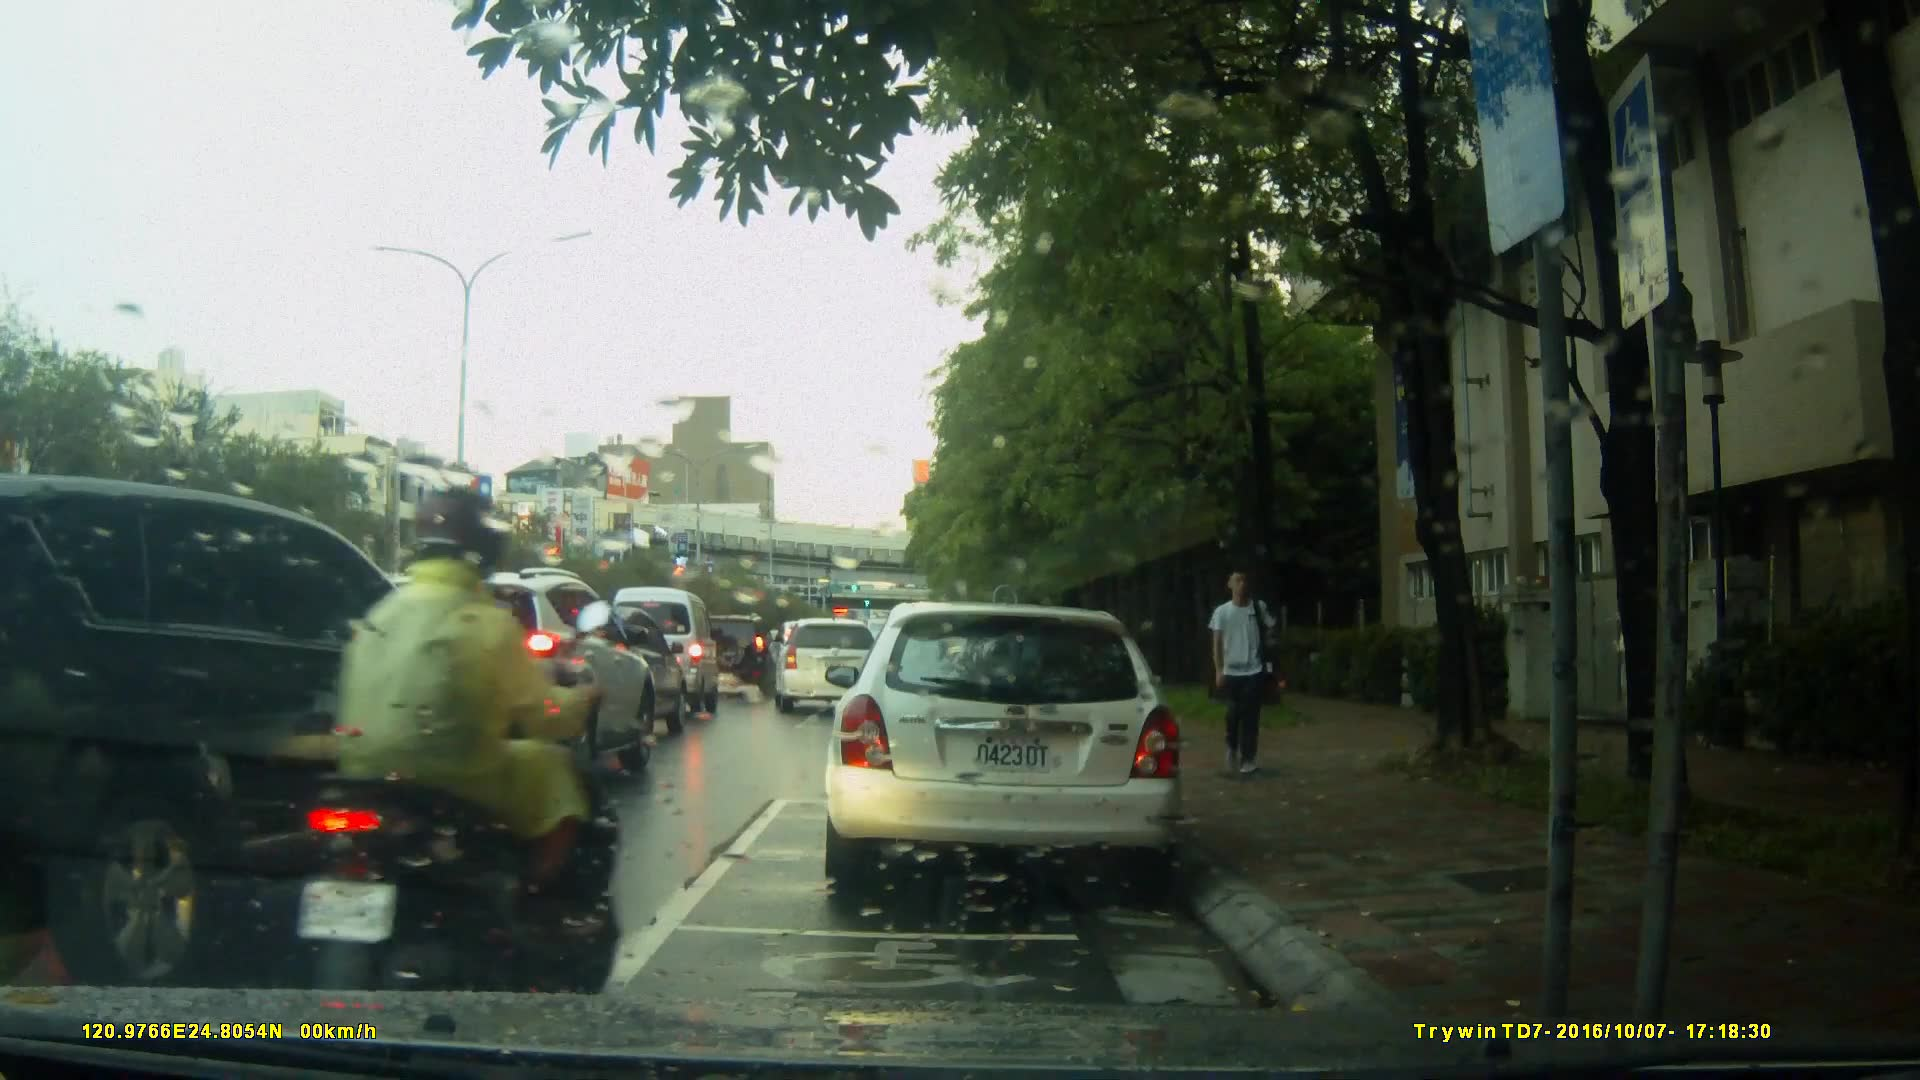pedestrian: (1202, 564, 1285, 792)
rider: (290, 489, 616, 1025)
vehicle: (1, 471, 537, 987), (820, 602, 1188, 898), (346, 563, 661, 790), (538, 602, 696, 735), (601, 585, 724, 721), (772, 617, 887, 714), (684, 611, 775, 698)
